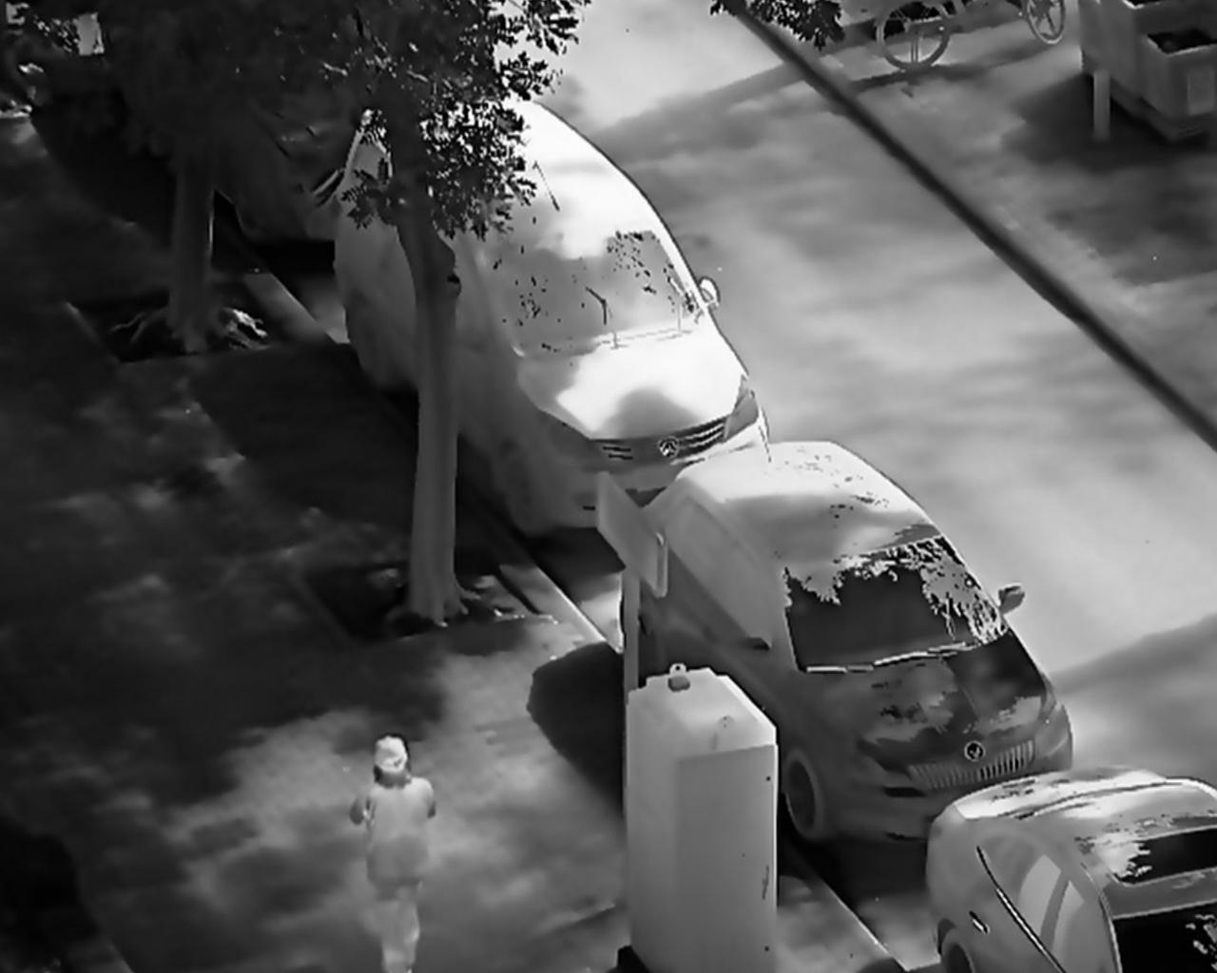person: (348, 733, 438, 973)
